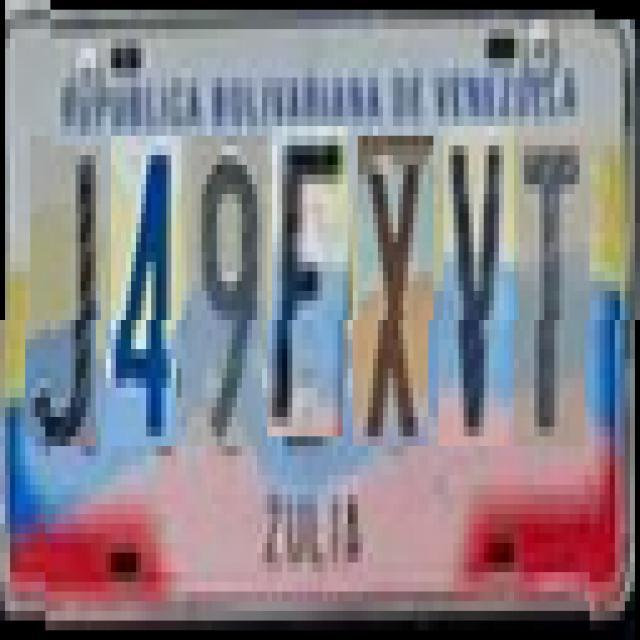4: (110, 136, 182, 447)
9: (192, 136, 268, 447)
F: (272, 126, 348, 437)
J: (30, 146, 101, 447)
T: (519, 126, 590, 446)
V: (443, 126, 514, 446)
X: (358, 136, 433, 447)
